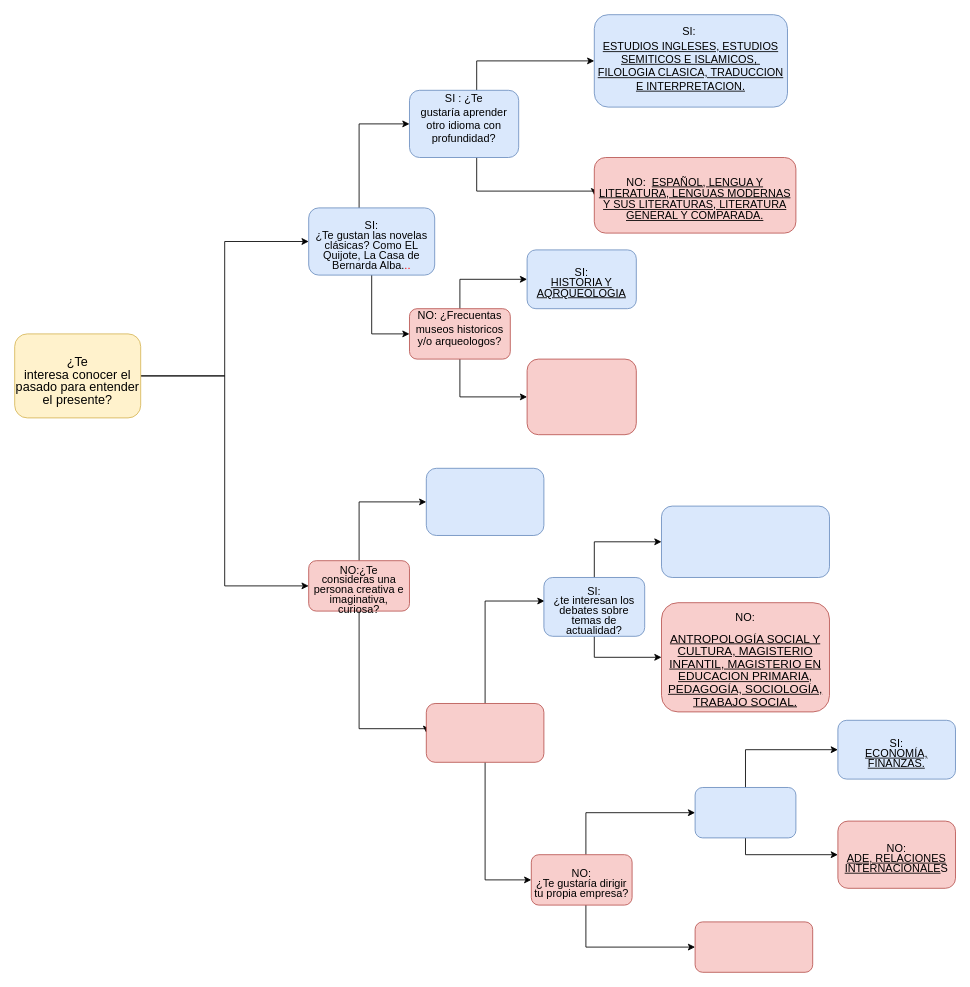
This 970x987 diagram has some shape labels left out. The centre of each missing label's shape, as x and y in pixels:
NO: COMERCIO TURISMO: (x=753, y=946)
NO: FILOSOFIA, CIENCIAS DE LAS RELIGIONES: (x=581, y=396)
NO: ¿te sientes comodo al hablar en publico?: (x=484, y=732)
SI: DERECHO, CIENCIAS POLÍTICAS: (x=745, y=541)
SI: PERIODISMO, PUBLICIDAD Y RELACIONES INTERNACIONALES.: (x=484, y=501)
SI: ¿Te manejas bien con cuentas matematicas: (x=745, y=812)
